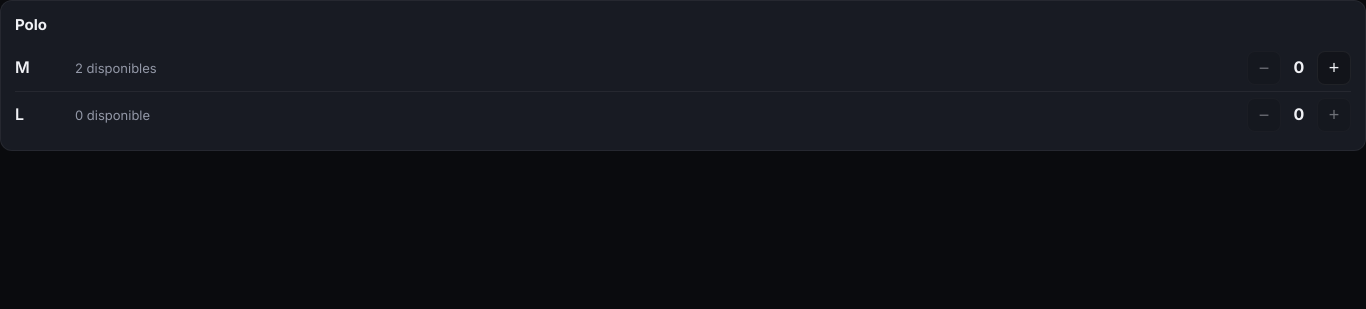
Test: UniformCatalog › poste le panier projeté, vide le panier et notifie la card des emprunts
Click the button named "Ajouter un Polo M au panier" at (1334, 68), box [1317,51,1351,85]
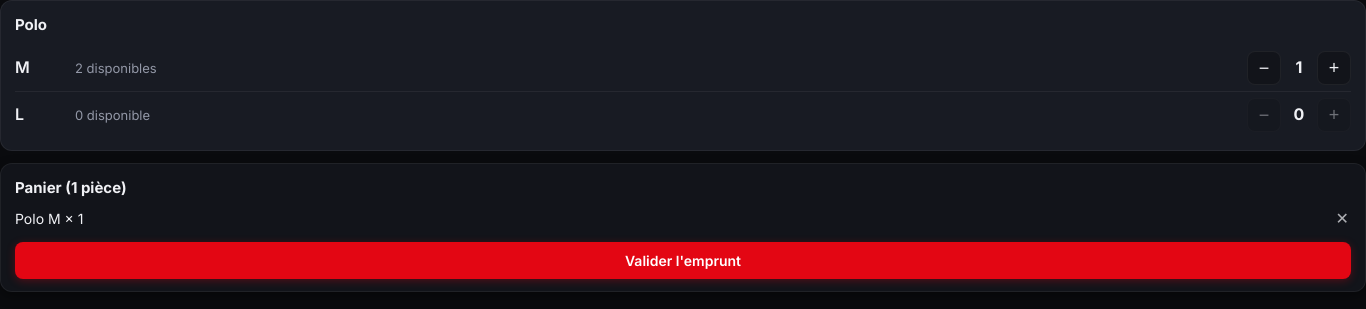
Click the button named "Ajouter un Polo M au panier" at (1334, 68), box [1317,51,1351,85]
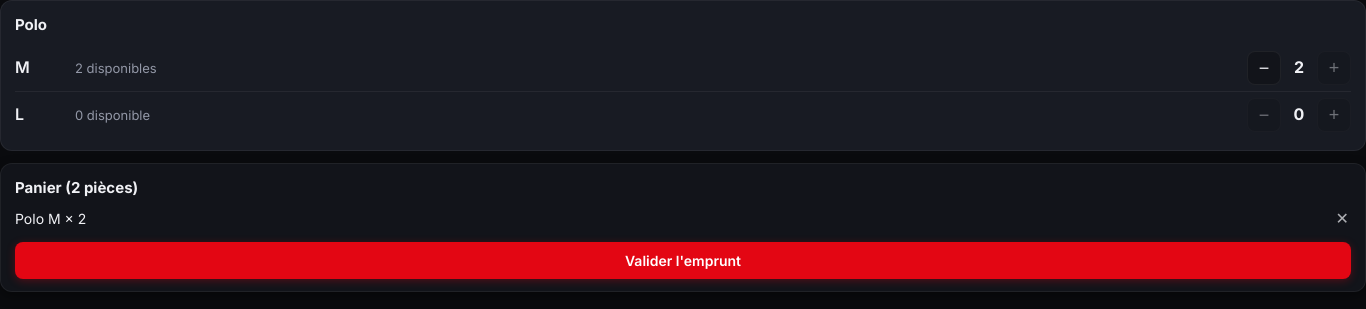
Click the button "Valider l'emprunt" at (683, 261), box [15,242,1351,279]
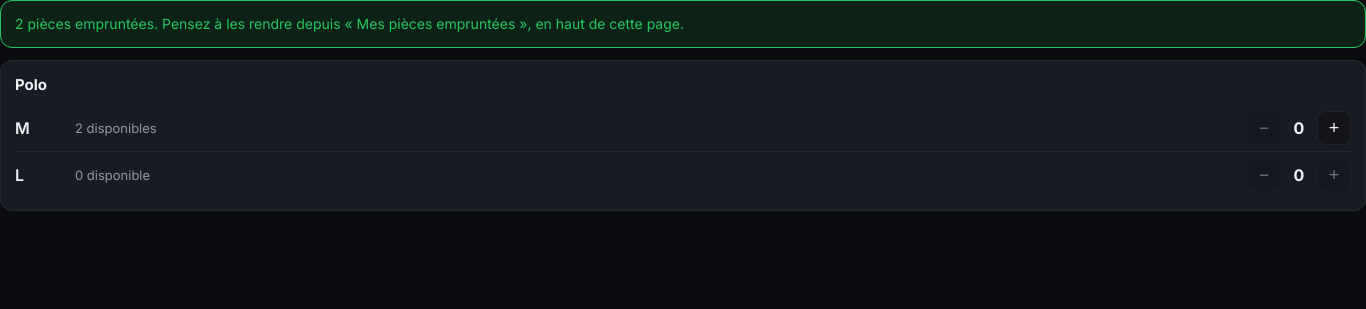
Expected: the heading "Panier" is gone
Expected: the message shows "2 pièces empruntées", [15,15,684,32]
